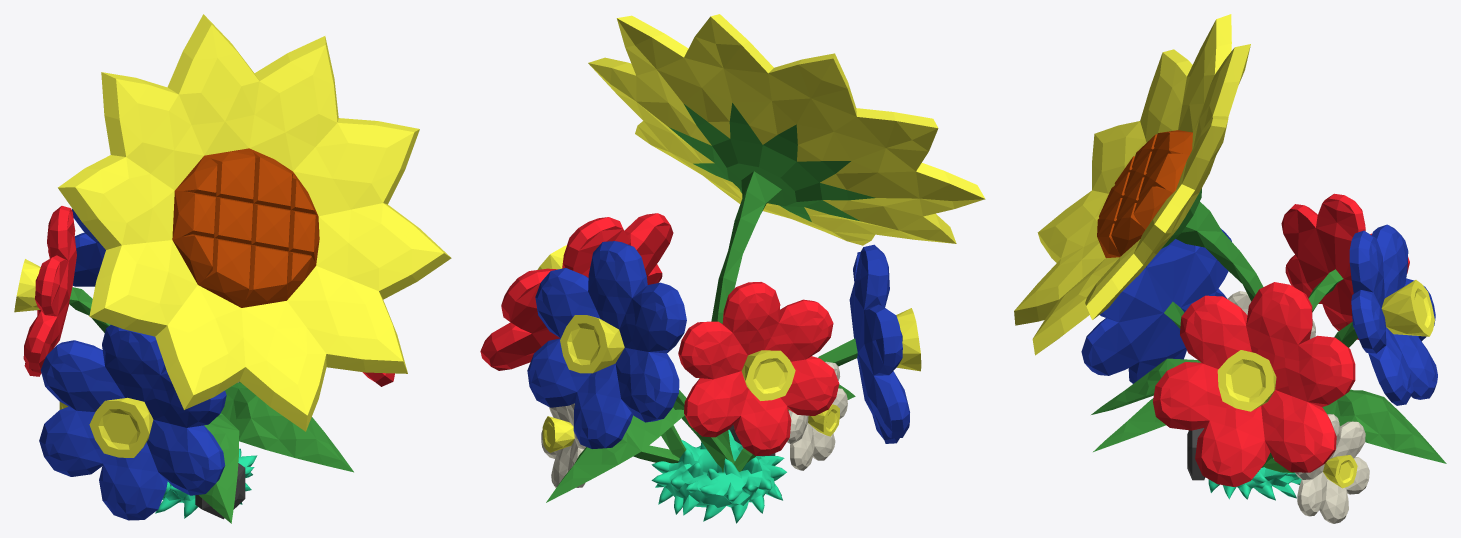
Rendered from tera-crown-grass.glb.
The picture shows the model from 3 angles, left to right: view 1: azimuth 30°, elevation 25°; view 2: azimuth 150°, elevation 25°; view 3: azimuth 270°, elevation 25°; orthographic projection. The views are drawn at different scales.
Visible parts, largest first — view 1: G_flower, G_ring, G_core; view 2: G_flower, G_ring; view 3: G_flower, G_ring, G_core.
Boxes of the visible parts, x1=… form: G_flower: x1=14, y1=14, x2=451, y2=523; G_ring: x1=155, y1=448, x2=257, y2=518; G_core: x1=195, y1=463, x2=245, y2=519; G_flower: x1=480, y1=14, x2=985, y2=502; G_ring: x1=651, y1=429, x2=786, y2=523; G_flower: x1=1014, y1=14, x2=1446, y2=523; G_ring: x1=1208, y1=458, x2=1301, y2=500; G_core: x1=1187, y1=428, x2=1205, y2=480.
Size of the model in its own units: 1.91 by 2.26 by 2.
6 materials, 6 textured.
